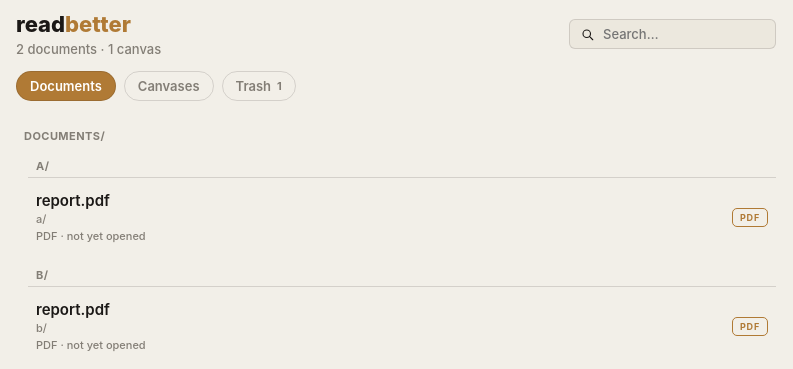
Test case: LibraryCockpit › filters documents by relative path and shows folder context for duplicate names
The image size is (793, 369).
Expected: the text "report.pdf" is shown 2 times, [36, 191, 110, 210]; [36, 300, 110, 319]
Expected: the 1st text "a/" is shown, [36, 159, 50, 173]
Type "documents/b" into the field named "search documents and canvases" at x=683, y=34, box [601, 25, 765, 43]
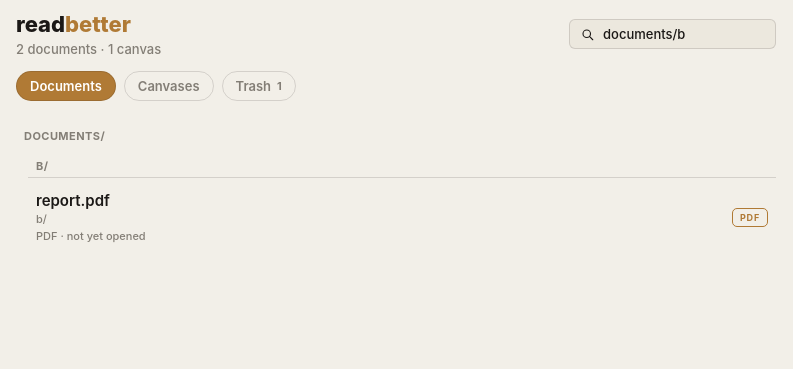
Expected: the 1st text "b/" is shown, [36, 159, 48, 173]
Now the text "a/" is gone
